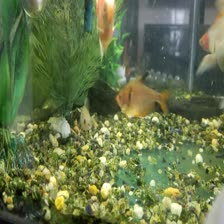Plano: (88, 0, 115, 57)
Transparente: (111, 74, 170, 121)
